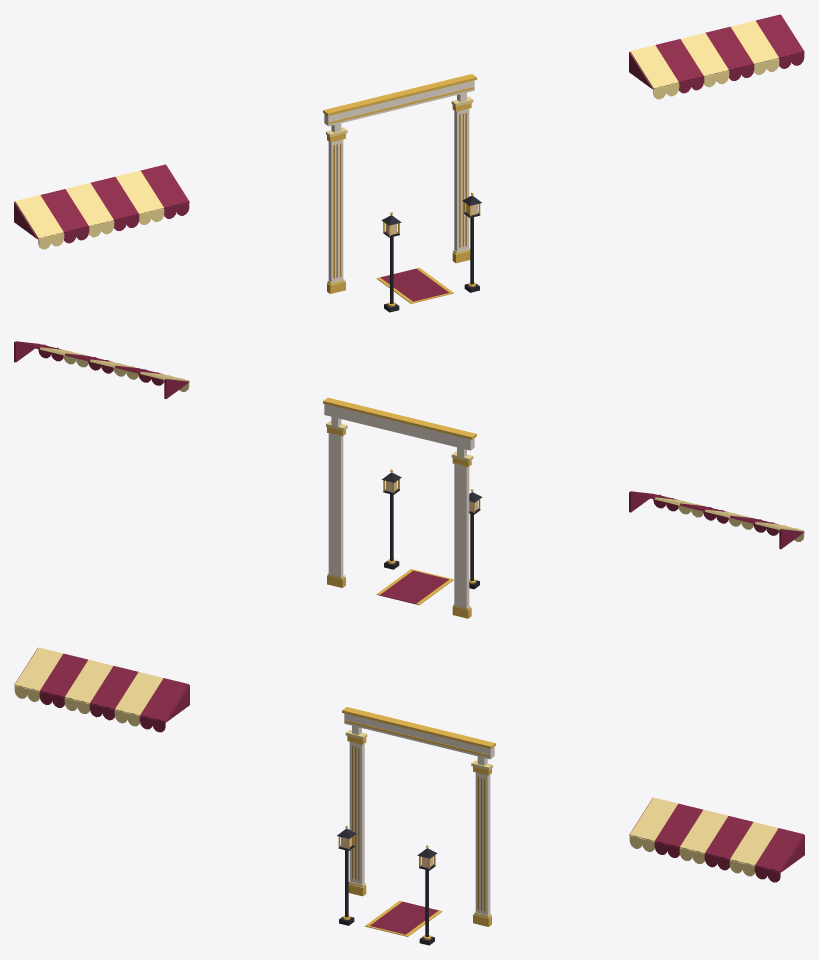
Rendered from CatCafe_Plot_ThemeGrand_60x46.glb.
3 views of the same model, one above another, from view 1: azimuth 30°, elevation 25°; view 2: azimuth 150°, elevation 25°; view 3: azimuth 330°, elevation 25° (orthographic).
Parts seen in each view (by area): view 1: CatCafe_Plot_ThemeGrand_60x46_Awning, CatCafe_Plot_ThemeGrand_60x46; view 2: CatCafe_Plot_ThemeGrand_60x46, CatCafe_Plot_ThemeGrand_60x46_Awning; view 3: CatCafe_Plot_ThemeGrand_60x46_Awning, CatCafe_Plot_ThemeGrand_60x46.
Part boxes in pixels (bbox=[...]): CatCafe_Plot_ThemeGrand_60x46_Awning: bbox=[14, 14, 804, 249]; CatCafe_Plot_ThemeGrand_60x46: bbox=[323, 74, 481, 312]; CatCafe_Plot_ThemeGrand_60x46: bbox=[323, 397, 482, 618]; CatCafe_Plot_ThemeGrand_60x46_Awning: bbox=[14, 341, 804, 549]; CatCafe_Plot_ThemeGrand_60x46_Awning: bbox=[14, 647, 804, 882]; CatCafe_Plot_ThemeGrand_60x46: bbox=[337, 707, 495, 945].
Bounding box in the file's own units: 56.15 × 12.75 × 4.86.
Materials: 1 (1 with a texture image).
